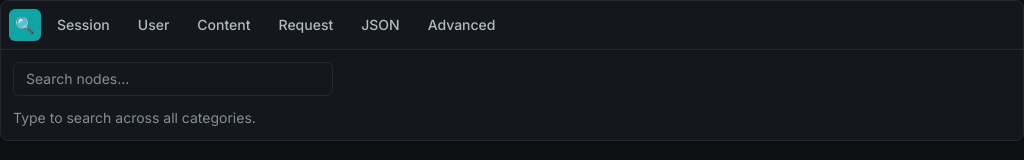
Scenario: NodePalette (manifest-driven) › shows the JSON Expression chip and hides Meta Tags for a JSON feature
Click the tab "JSON".
click(380, 25)  # box [349,9,412,41]
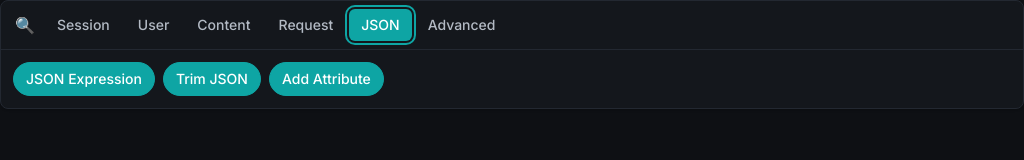
expect the button "JSON Expression" is shown: met, box [13,62,155,96]
Click the tab "Content".
click(224, 25)  # box [185,9,262,41]
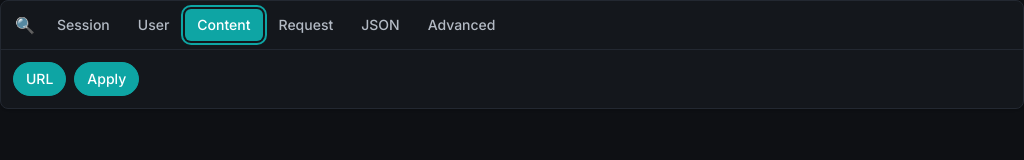
expect the button "URL" is shown: met, box [13,62,66,96]
